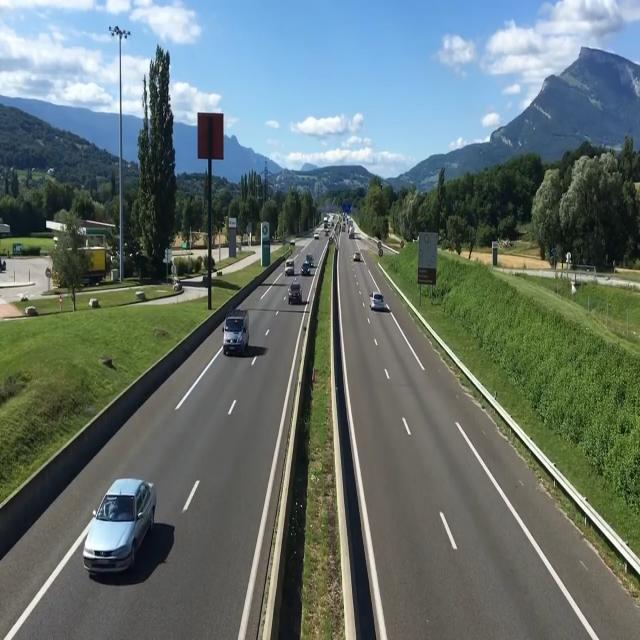car: (76, 475, 158, 583), (222, 304, 250, 358), (368, 291, 386, 315), (286, 284, 304, 305), (351, 238, 365, 264), (302, 254, 315, 278), (284, 256, 296, 277)
